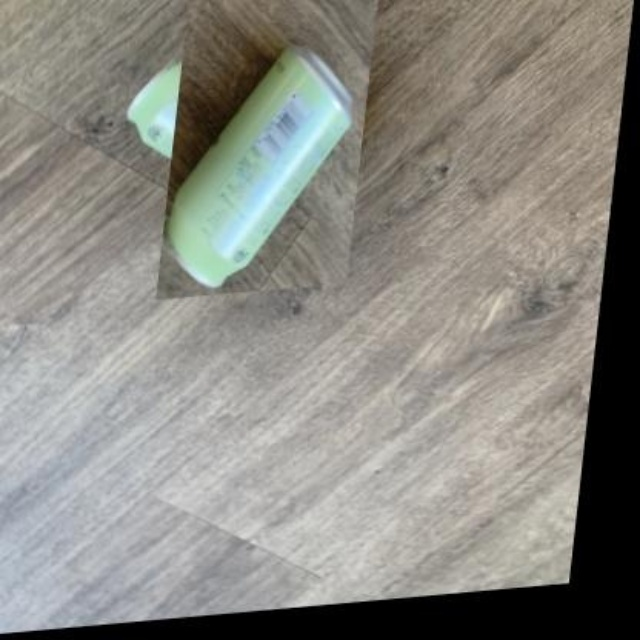trash: (166, 49, 351, 286)
